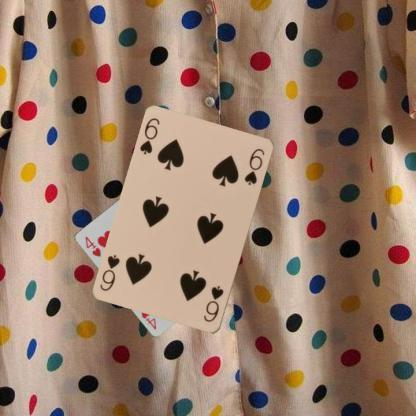4h: (82, 234, 102, 258)
6s: (136, 116, 162, 156), (200, 283, 225, 324)
